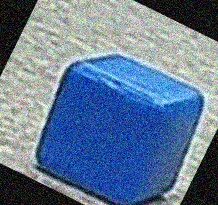blue_cube: (36, 46, 199, 205)
